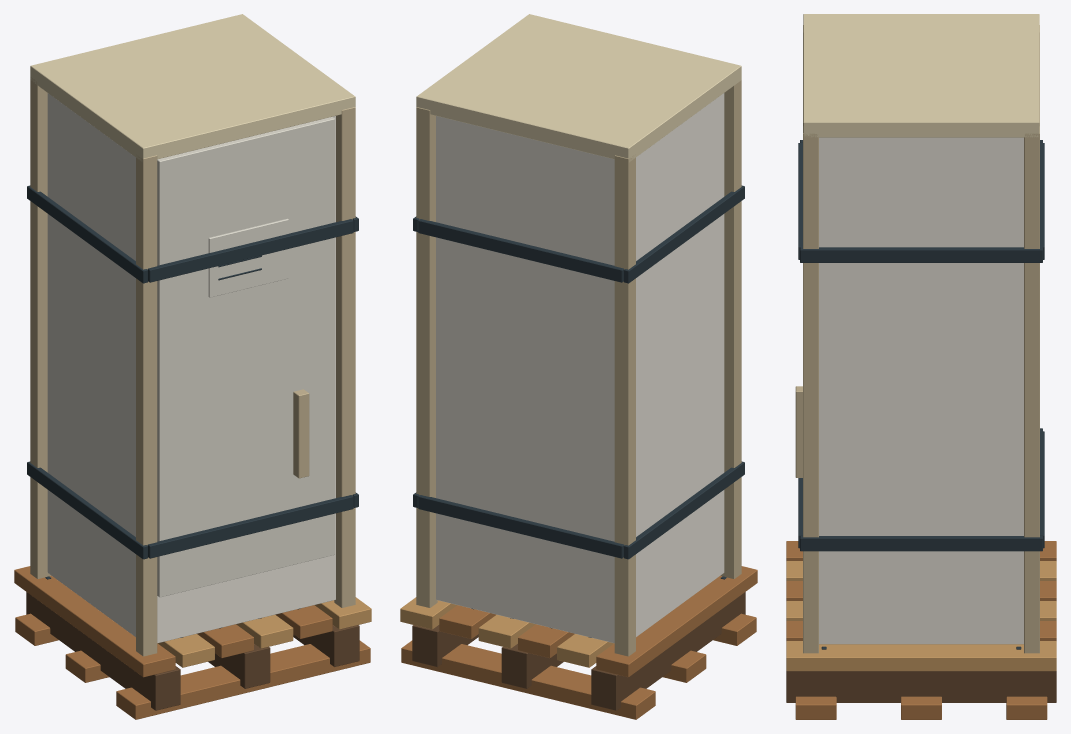
Rendered from b14_skidded_wrapped_appliance.glb.
The picture shows the model from 3 angles, left to right: view 1: azimuth 30°, elevation 25°; view 2: azimuth 150°, elevation 25°; view 3: azimuth 270°, elevation 25°; orthographic projection. The views are drawn at different scales.
Parts seen in each view (by area): view 1: b14_skidded_wrapped_appliance; view 2: b14_skidded_wrapped_appliance; view 3: b14_skidded_wrapped_appliance.
Part boxes in pixels (<box>): b14_skidded_wrapped_appliance: <box>14,14,371,719</box>; b14_skidded_wrapped_appliance: <box>400,14,757,719</box>; b14_skidded_wrapped_appliance: <box>786,14,1056,719</box>.
Size of the model in its own units: 0.83 by 1.91 by 0.79.
